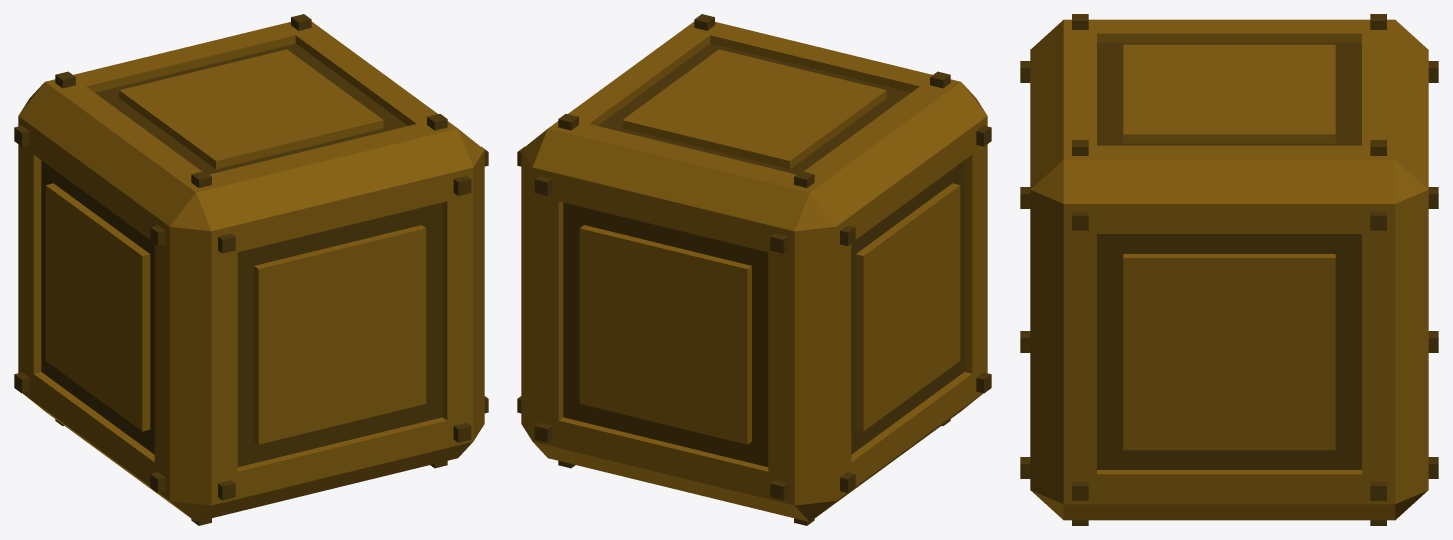
File: YellowBox.obj
3 renders of one model, left to right at view 1: azimuth 30°, elevation 25°; view 2: azimuth 150°, elevation 25°; view 3: azimuth 270°, elevation 25°, orthographic. The views are drawn at different scales.
Parts seen in each view (by area): view 1: YellowBox.008_Yellow, YellowBox.008_DarkYellow; view 2: YellowBox.008_Yellow, YellowBox.008_DarkYellow; view 3: YellowBox.008_Yellow, YellowBox.008_DarkYellow.
Part boxes in pixels (x1,y1,x2,y2): YellowBox.008_Yellow: (18,22,484,521); YellowBox.008_DarkYellow: (14,14,488,525); YellowBox.008_Yellow: (521,22,987,521); YellowBox.008_DarkYellow: (517,14,991,525); YellowBox.008_Yellow: (1030,19,1428,520); YellowBox.008_DarkYellow: (1020,14,1438,525).
Bounding box in the file's own units: 1.04 × 1.04 × 1.04.
